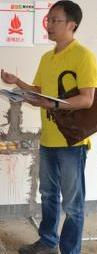boots: (18, 240, 58, 254), (0, 203, 12, 220)
